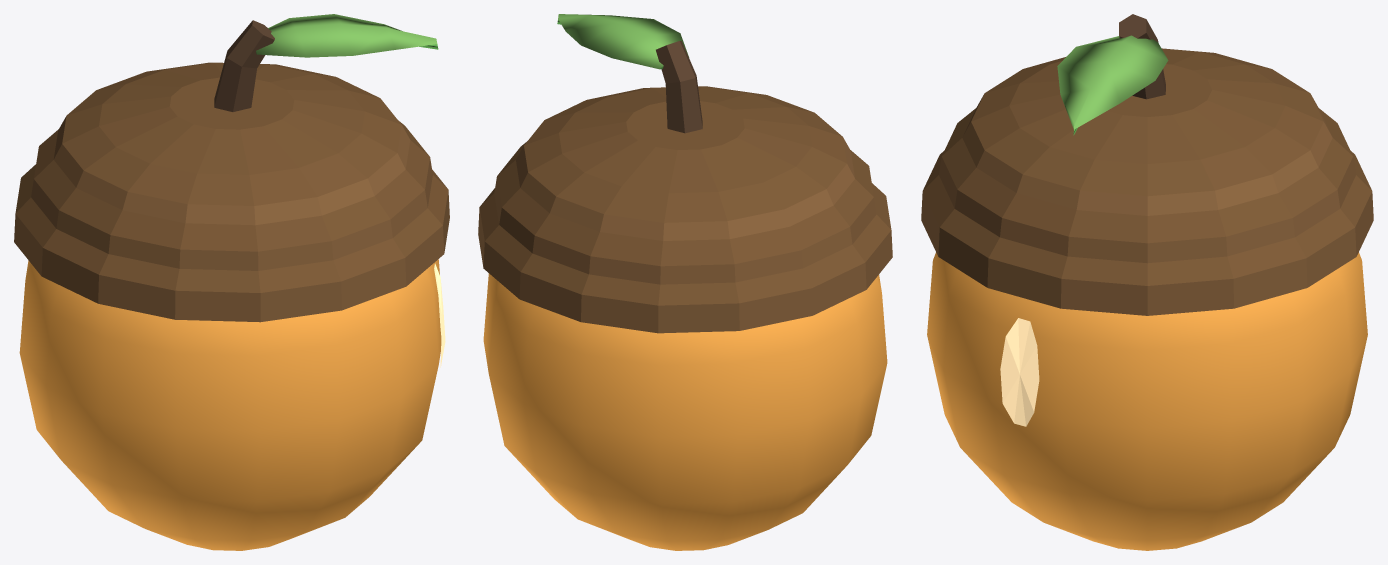
Rendered from acorn-big.glb.
3 renders of one model, left to right at view 1: azimuth 30°, elevation 25°; view 2: azimuth 150°, elevation 25°; view 3: azimuth 270°, elevation 25°, orthographic. The views are drawn at different scales.
Visible parts, largest first — view 1: acorn-big; view 2: acorn-big; view 3: acorn-big.
Part boxes in pixels (x1=…): acorn-big: x1=14, y1=14, x2=449, y2=550; acorn-big: x1=478, y1=14, x2=892, y2=550; acorn-big: x1=921, y1=14, x2=1373, y2=550.
Bounding box in the file's own units: 2.77 × 3.58 × 2.77.
